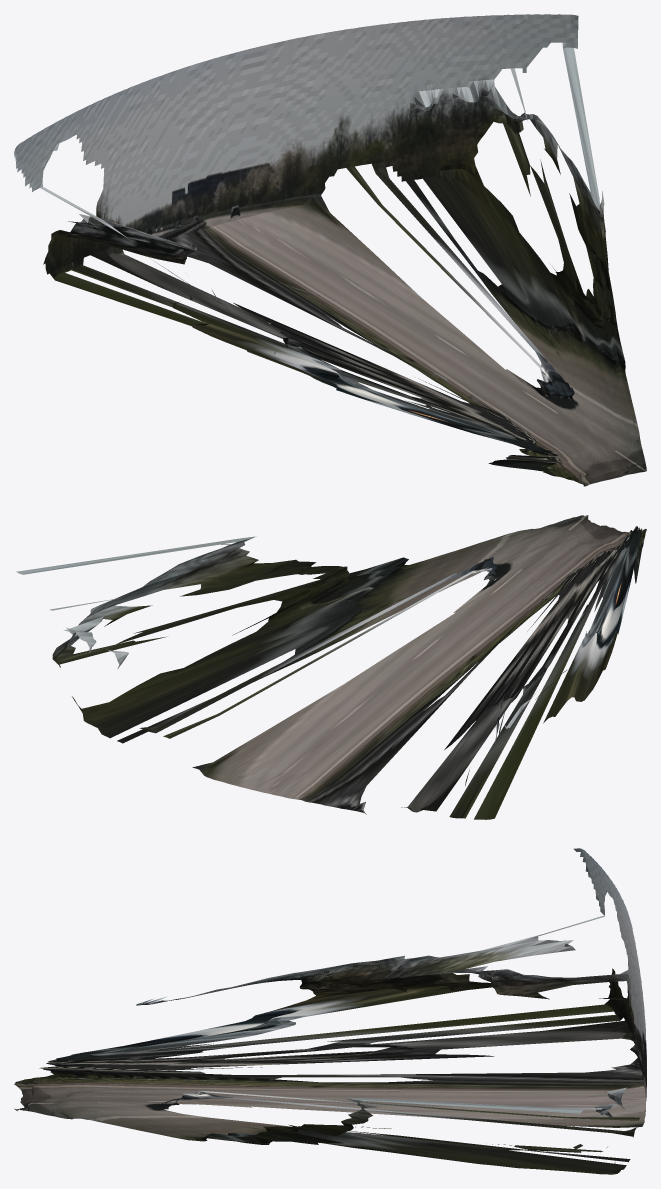
3 renders of one model, top to bottom at view 1: azimuth 30°, elevation 25°; view 2: azimuth 150°, elevation 25°; view 3: azimuth 270°, elevation 25°, orthographic. The views are drawn at different scales.
Visible parts, largest first — view 1: defaultobject; view 2: defaultobject; view 3: defaultobject.
Boxes of the visible parts, <box> form: defaultobject: <box>14,14,646,486</box>; defaultobject: <box>16,515,646,819</box>; defaultobject: <box>14,848,646,1174</box>.
Size of the model in its own units: 39.73 by 12.04 by 44.87.
1 material, 1 textured.
